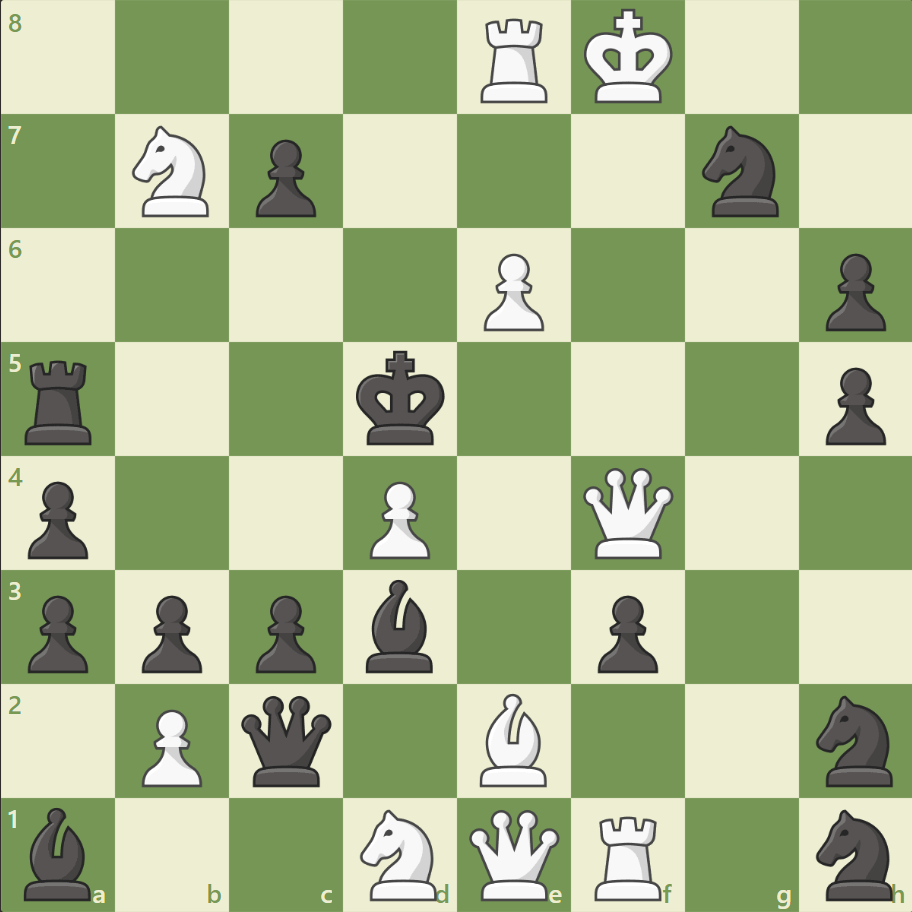B: (471, 687, 555, 790)
K: (579, 4, 679, 112)
N: (124, 121, 222, 223), (351, 802, 449, 904)
P: (474, 246, 549, 337), (133, 700, 208, 791), (361, 473, 435, 564)
Q: (578, 463, 677, 562), (464, 804, 563, 903)
R: (587, 806, 670, 904), (473, 12, 556, 109)
b: (17, 801, 101, 904), (358, 574, 442, 676)
k: (351, 344, 451, 452)
n: (806, 688, 903, 791), (692, 121, 789, 223), (806, 802, 903, 904)
p: (247, 132, 322, 223), (20, 473, 95, 564), (20, 586, 95, 677), (133, 586, 208, 677), (247, 586, 322, 677), (815, 246, 889, 337), (815, 359, 889, 450), (588, 586, 662, 677)
q: (237, 690, 336, 789)
r: (19, 352, 102, 449)
